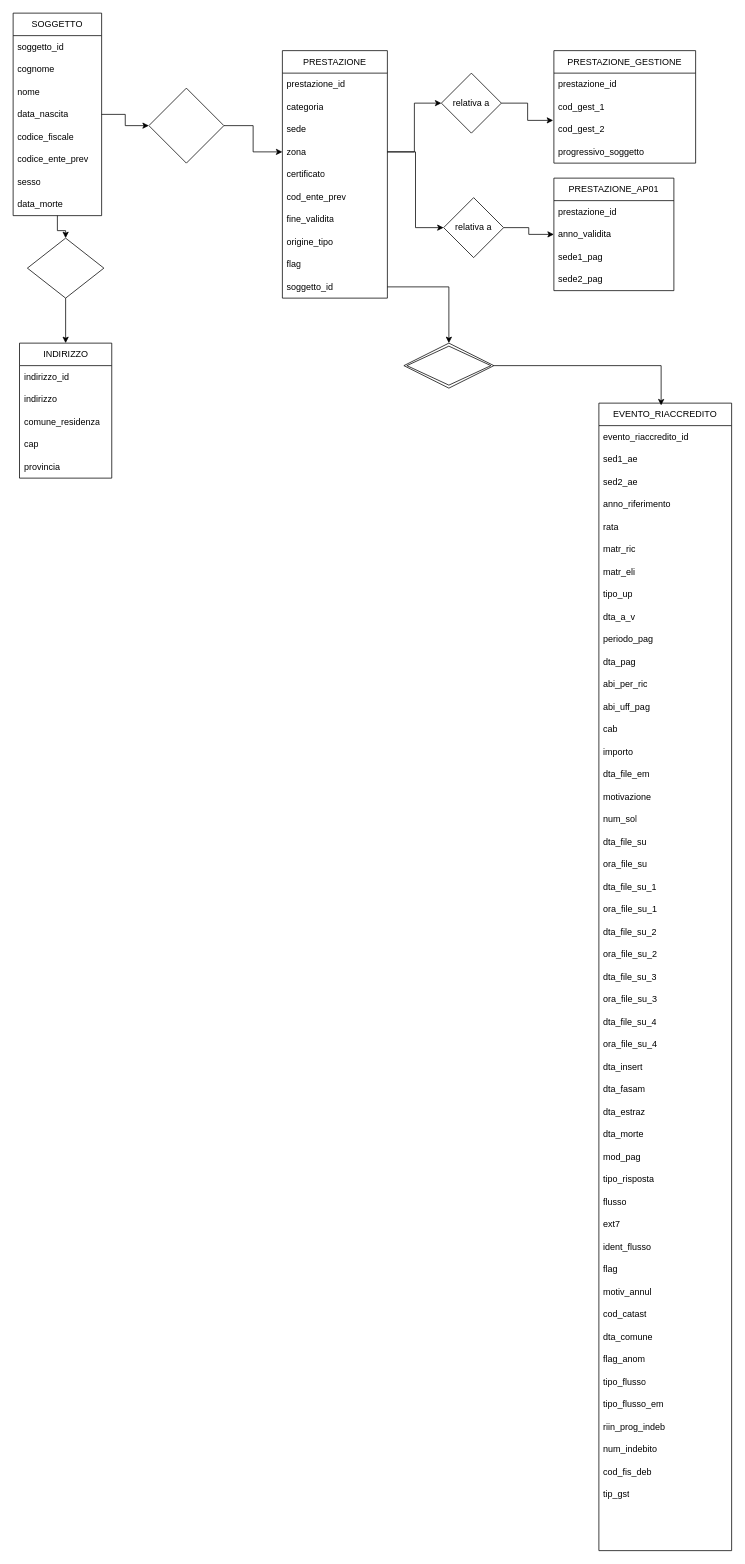
Some shapes in this 745 by 1564 pixel diagram are drawn without their labels. The centre of each missing label's shape, as x and y in pixels:
"associato alle prestazioni" belongs at (186,125).
"completo con" belongs at (65,267).
"crea eventi" belongs at (448,365).
